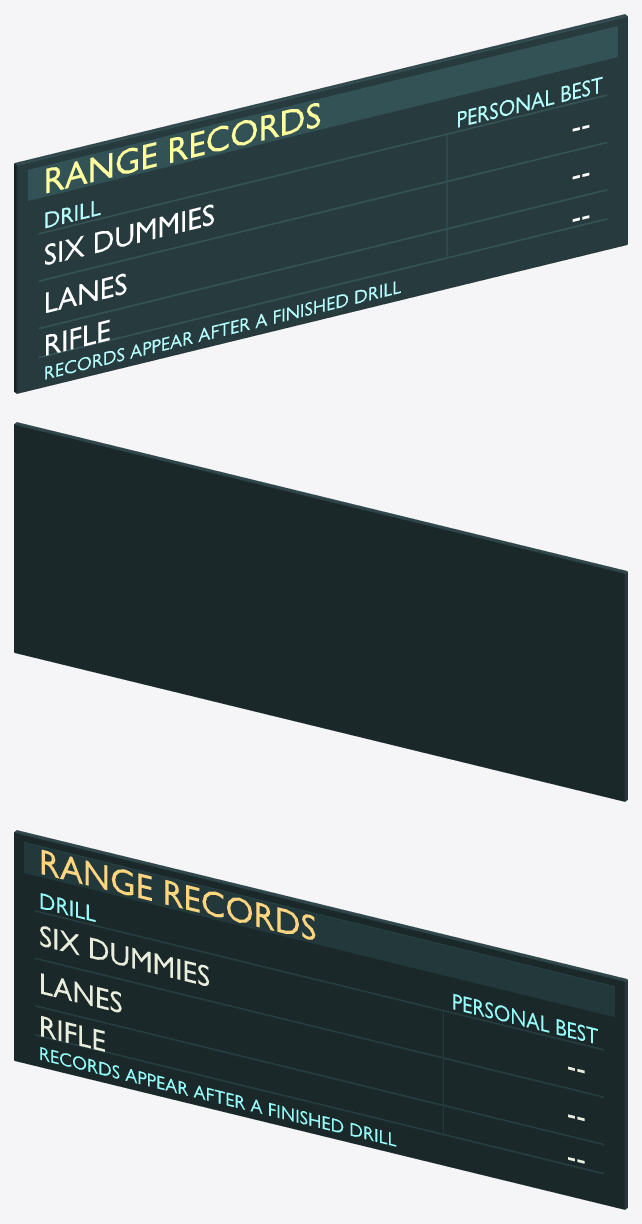
Rendered from w3a-range-record-face.glb.
3 views of the same model, one above another, from view 1: azimuth 30°, elevation 25°; view 2: azimuth 150°, elevation 25°; view 3: azimuth 330°, elevation 25° (orthographic).
Parts seen in each view (by area): view 1: Range face | Deep petrol enamel, Range face | Muted header and row bars, Range face | Cyan screen printing, Range face | Warm brass screen printing, Range face | Ivory screen printing; view 2: Range face | Deep petrol enamel; view 3: Range face | Deep petrol enamel, Range face | Muted header and row bars, Range face | Cyan screen printing, Range face | Ivory screen printing, Range face | Warm brass screen printing.
Part boxes in pixels (x1,y1,x2,y2): Range face | Deep petrol enamel: [14, 14, 627, 393]; Range face | Muted header and row bars: [27, 26, 617, 358]; Range face | Cyan screen printing: [45, 76, 602, 379]; Range face | Warm brass screen printing: [46, 103, 320, 193]; Range face | Ivory screen printing: [45, 204, 213, 355]; Range face | Deep petrol enamel: [14, 422, 627, 801]; Range face | Deep petrol enamel: [14, 830, 627, 1209]; Range face | Muted header and row bars: [24, 842, 614, 1174]; Range face | Cyan screen printing: [40, 893, 597, 1146]; Range face | Ivory screen printing: [40, 926, 208, 1051]; Range face | Warm brass screen printing: [41, 849, 315, 939].
Size of the model in its own units: 1.61 by 0.576 by 0.018.
